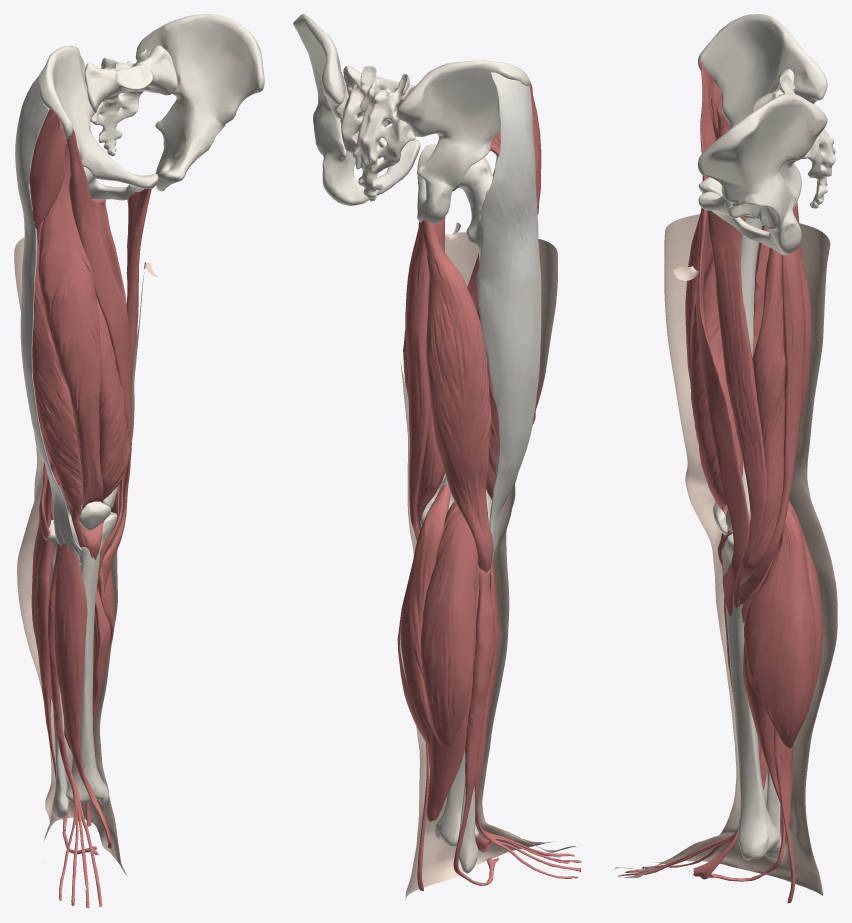
The model's file is knee-right.48f41adaca.glb.
3 views of the same model, side by side, from view 1: azimuth 30°, elevation 25°; view 2: azimuth 150°, elevation 25°; view 3: azimuth 270°, elevation 25° (orthographic). The views are drawn at different scales.
Parts seen in each view (by area): view 1: left_hip_bone, right_rectus_femoris, skin, right_iliotibial_tract, right_sartorius, right_vastus_lateralis, right_hip_bone, right_tibialis_anterior, sacrum, right_tibia, right_vastus_medialis, right_extensor_digitorum_longus (+9 smaller); view 2: right_iliotibial_tract, long_head_of_right_biceps_femoris, right_hip_bone, skin, lateral_head_of_right_gastrocnemius, left_hip_bone, sacrum, medial_head_of_right_gastrocnemius, right_semitendinosus, right_fibularis_longus, right_soleus, right_femur (+8 smaller); view 3: skin, left_hip_bone, medial_head_of_right_gastrocnemius, right_hip_bone, right_gracilis, right_sartorius, right_semimembranosus, right_tibia, right_semitendinosus, right_vastus_medialis, right_soleus, sacrum (+10 smaller).
Part boxes in pixels (<box>): left_hip_bone: <box>135,14,264,191</box>; right_rectus_femoris: <box>38,143,103,559</box>; skin: <box>14,237,157,876</box>; right_iliotibial_tract: <box>15,76,82,566</box>; right_sartorius: <box>66,128,132,592</box>; right_vastus_lateralis: <box>32,220,85,547</box>; right_hip_bone: <box>38,45,158,200</box>; right_tibialis_anterior: <box>54,542,112,848</box>; sacrum: <box>84,45,177,156</box>; right_tibia: <box>53,512,117,804</box>; right_vastus_medialis: <box>96,297,129,527</box>; right_extensor_digitorum_longus: <box>48,543,102,908</box>; right_iliotibial_tract: <box>476,72,541,561</box>; long_head_of_right_biceps_femoris: <box>421,220,493,572</box>; right_hip_bone: <box>396,60,532,223</box>; skin: <box>400,222,576,899</box>; lateral_head_of_right_gastrocnemius: <box>420,509,478,747</box>; left_hip_bone: <box>293,14,420,205</box>; sacrum: <box>340,65,415,201</box>; medial_head_of_right_gastrocnemius: <box>397,484,450,747</box>; right_semitendinosus: <box>406,221,431,540</box>; right_fibularis_longus: <box>453,569,498,885</box>; right_soleus: <box>427,565,480,821</box>; right_femur: <box>420,157,493,526</box>; skin: <box>614,214,837,895</box>; left_hip_bone: <box>698,93,827,255</box>; medial_head_of_right_gastrocnemius: <box>744,508,815,748</box>; right_hip_bone: <box>698,14,827,218</box>; right_gracilis: <box>707,210,767,607</box>; right_sartorius: <box>696,62,749,616</box>; right_semimembranosus: <box>740,247,785,581</box>; right_tibia: <box>721,533,779,860</box>; right_semitendinosus: <box>738,248,805,606</box>; right_vastus_medialis: <box>690,256,743,545</box>; right_soleus: <box>743,641,793,825</box>; sacrum: <box>752,69,835,208</box>.
Size of the model in its own units: 0.313 by 1.03 by 0.2417.
